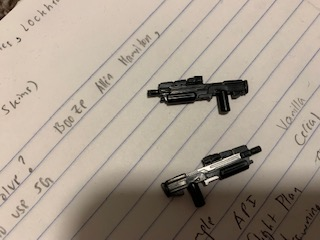rifle: (159, 143, 265, 209), (143, 73, 254, 117)
